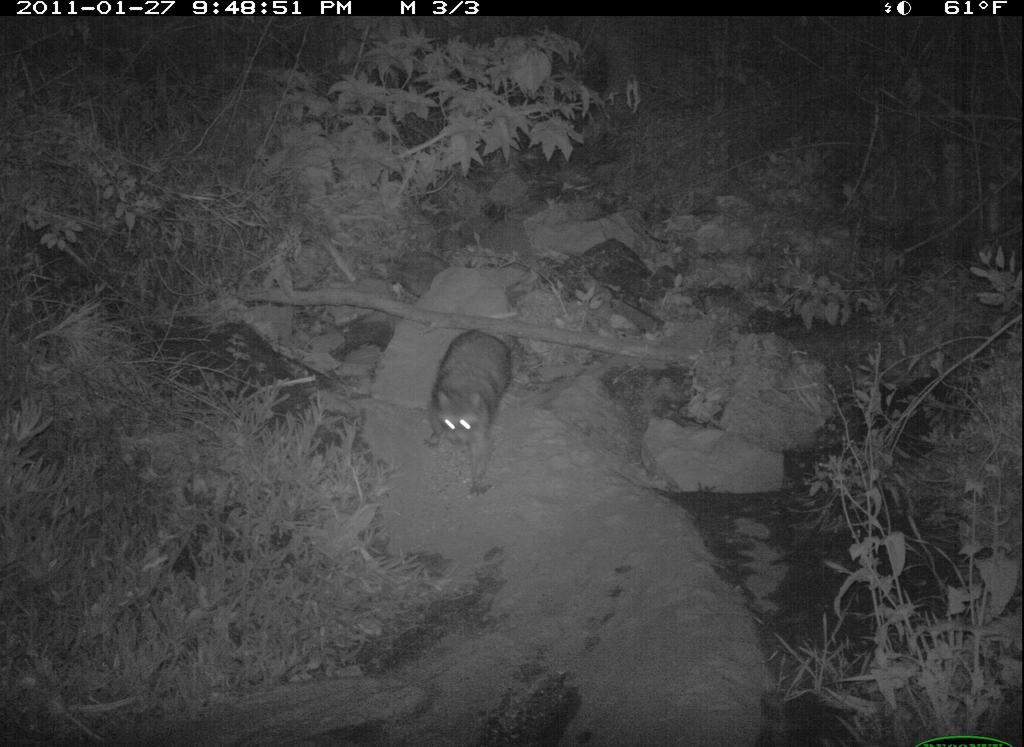raccoon: (409, 317, 547, 530)
